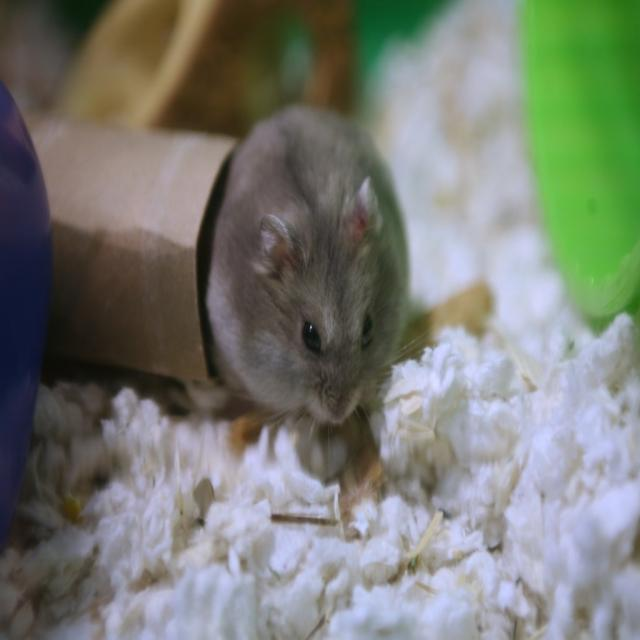rat: (204, 101, 412, 426)
